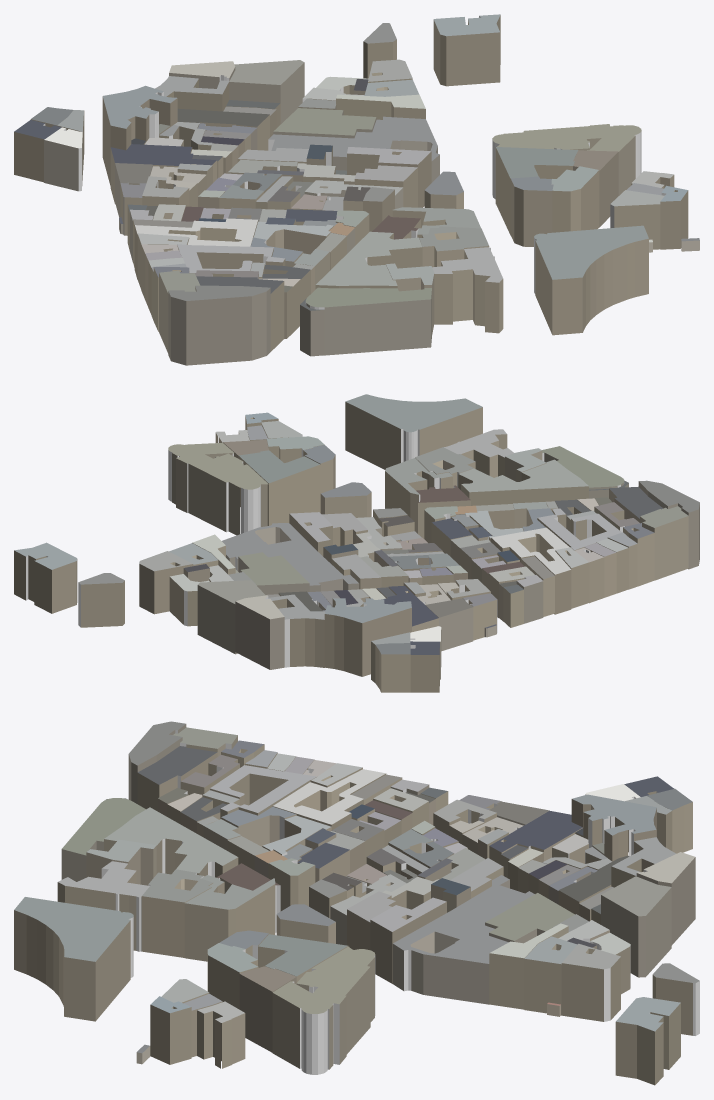
3 renders of one model, top to bottom at view 1: azimuth 30°, elevation 25°; view 2: azimuth 150°, elevation 25°; view 3: azimuth 270°, elevation 25°, orthographic. The views are drawn at different scales.
Parts seen in each view (by area): view 1: tuile; view 2: tuile; view 3: tuile.
Part boxes in pixels (left/top/right/bottom): tuile: left=14, top=14, right=699, bottom=365; tuile: left=14, top=394, right=699, bottom=692; tuile: left=14, top=721, right=699, bottom=1085.
Bounding box in the file's own units: 276 × 39.21 × 275.
